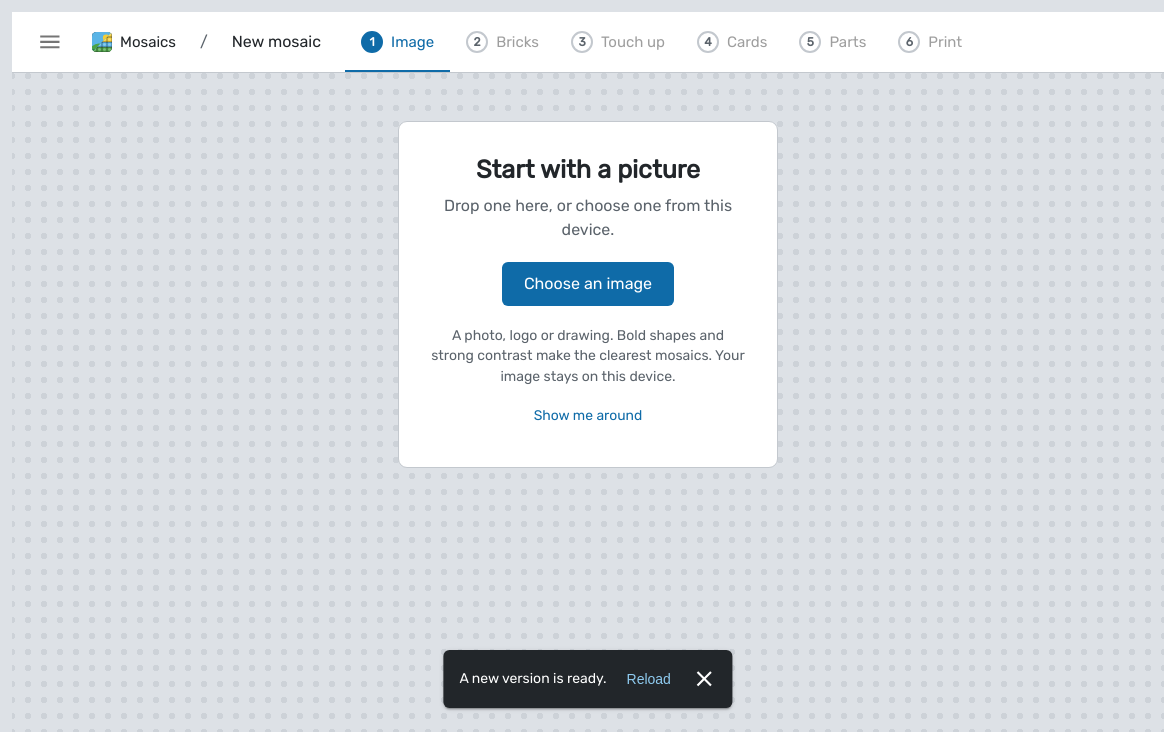
A new version › can be closed, and nothing reloads by itself
Step 1. Click the button named "Close" → click(704, 679), box [683,658,725,700]
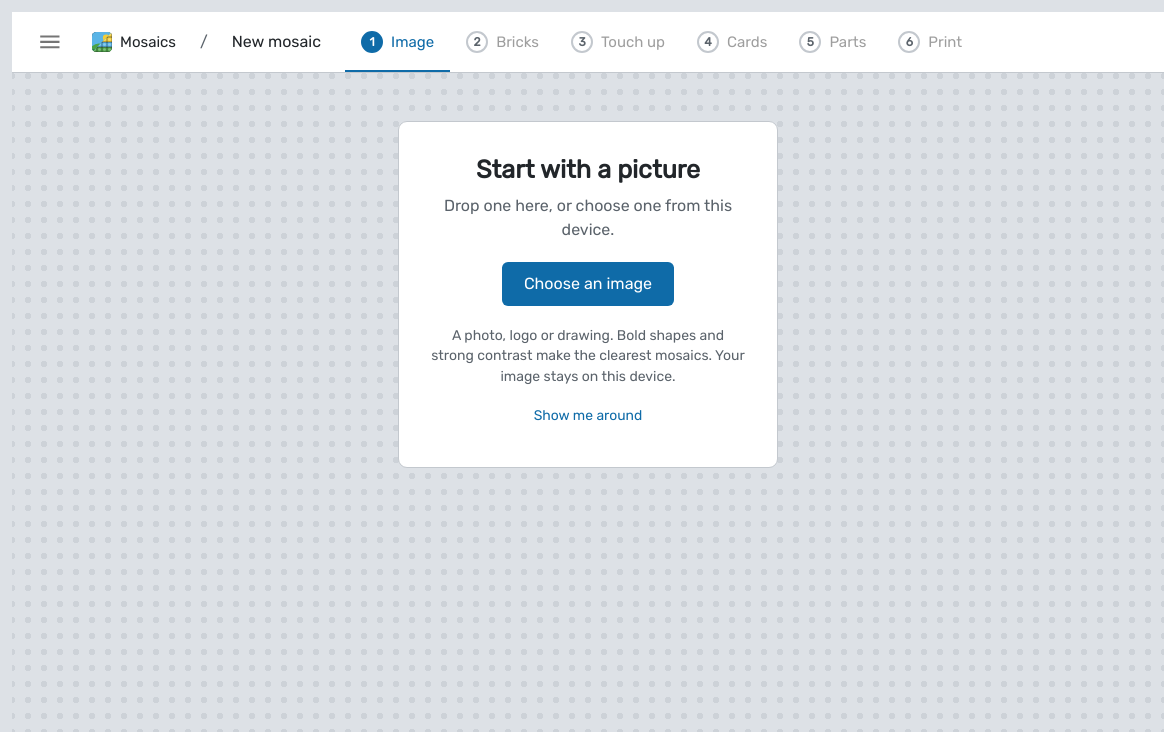
Check: the text "A new version is ready." is gone
